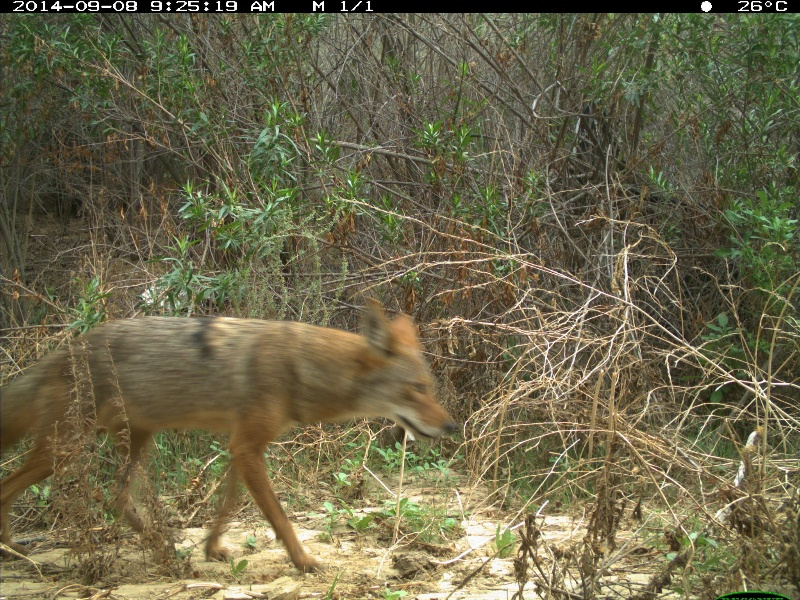coyote: (1, 299, 466, 577)
